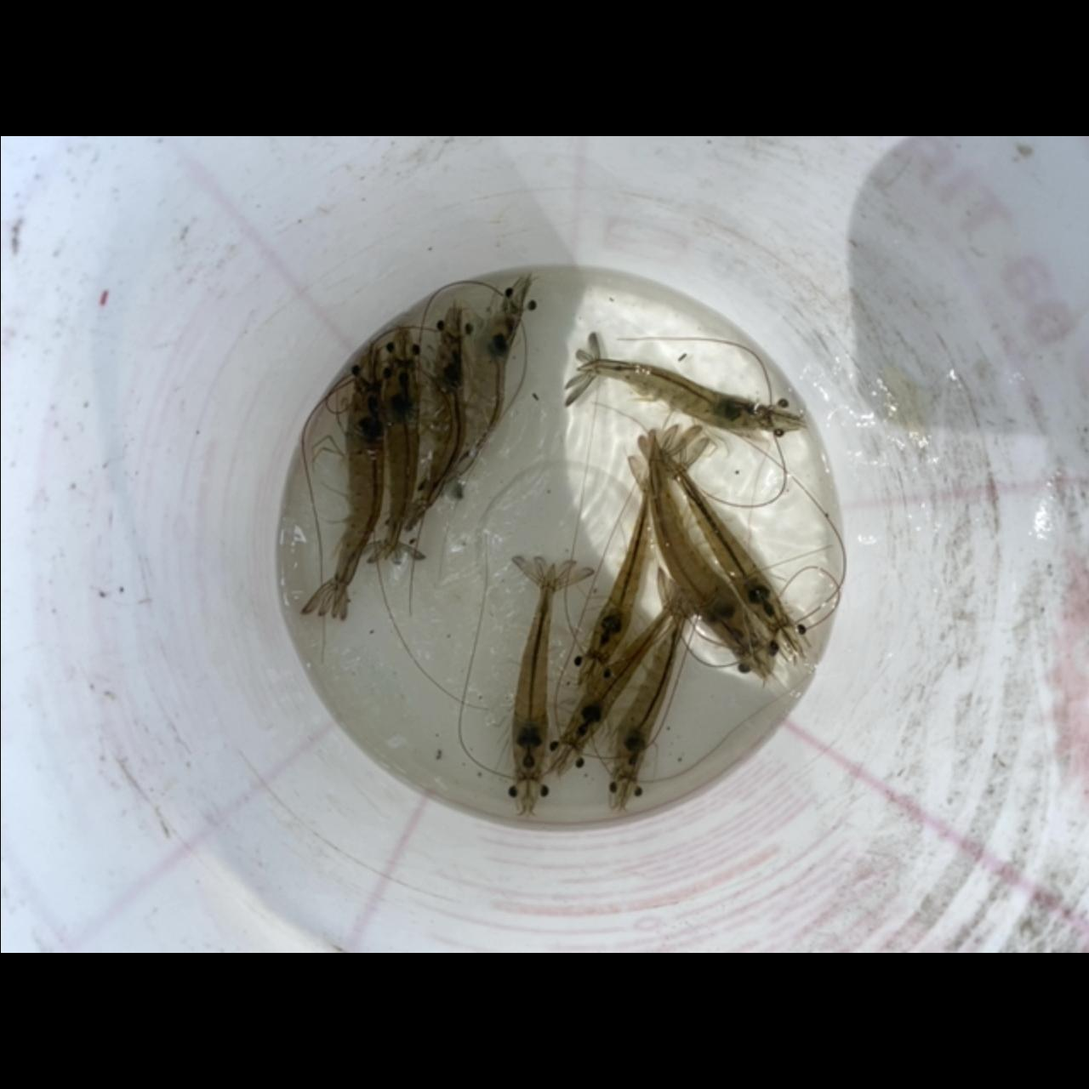round_base: (281, 278, 827, 810)
side_shrimp: (436, 305, 521, 489), (409, 336, 464, 520)
top_shrimp: (653, 446, 789, 632), (648, 442, 757, 654), (568, 590, 679, 753), (578, 359, 773, 431), (587, 469, 652, 660), (330, 385, 384, 606), (613, 619, 681, 780), (512, 563, 554, 779), (380, 357, 418, 558)
